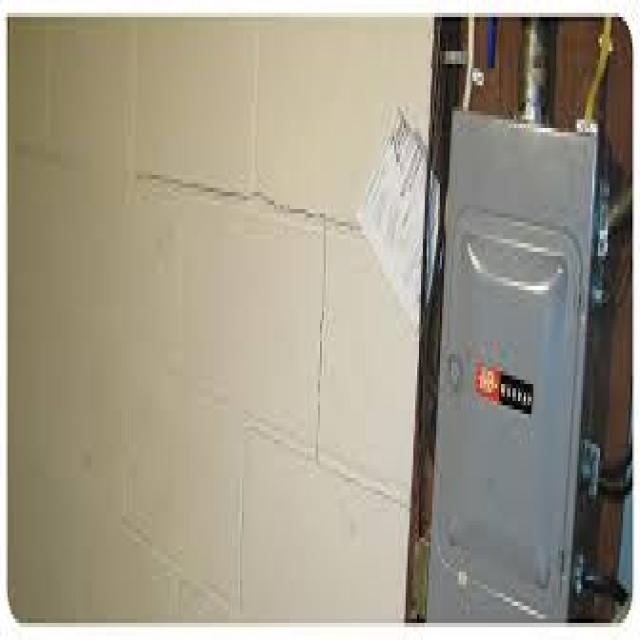Crack: (132, 158, 328, 461)
